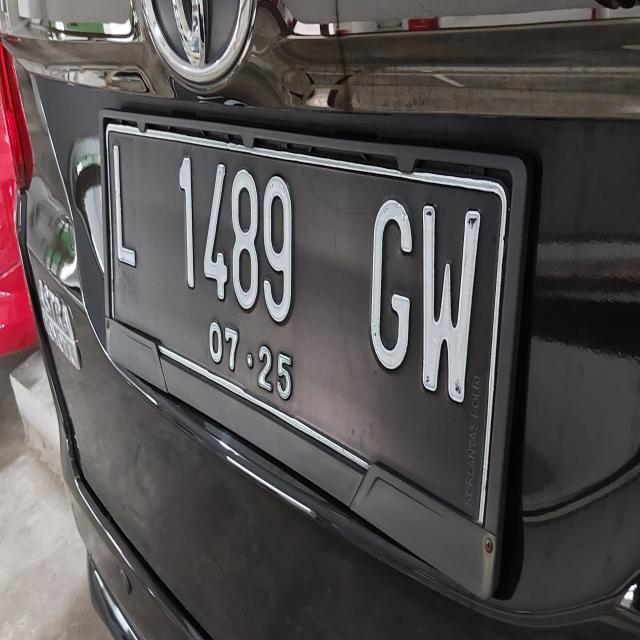1: (176, 145, 200, 303)
4: (203, 152, 230, 313)
8: (230, 161, 260, 319)
9: (262, 175, 296, 326)
G: (366, 190, 414, 374)
L: (108, 138, 144, 274)
W: (420, 199, 481, 405)
